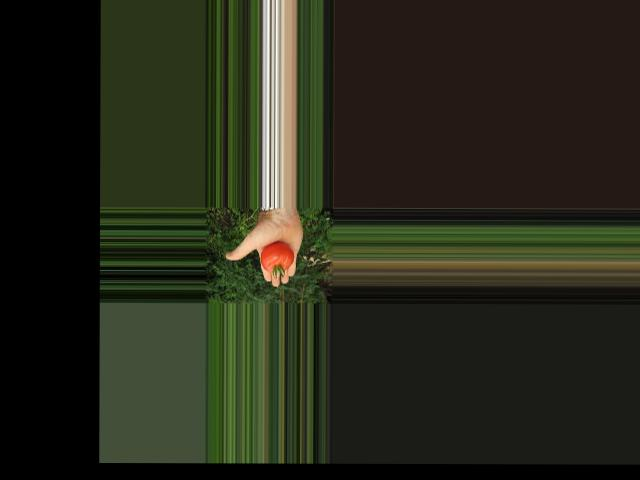tomato: (260, 241, 295, 271)
